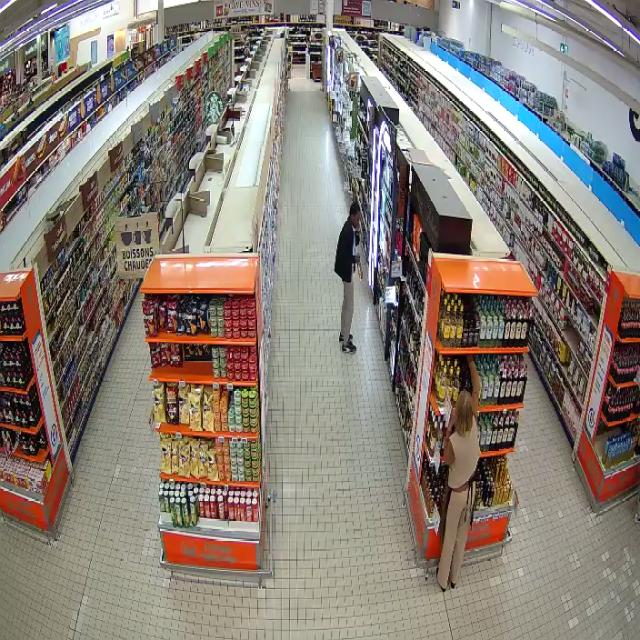article: (358, 261, 363, 279)
hands: (355, 255, 360, 266)
person: (437, 357, 480, 591), (334, 201, 360, 352)
